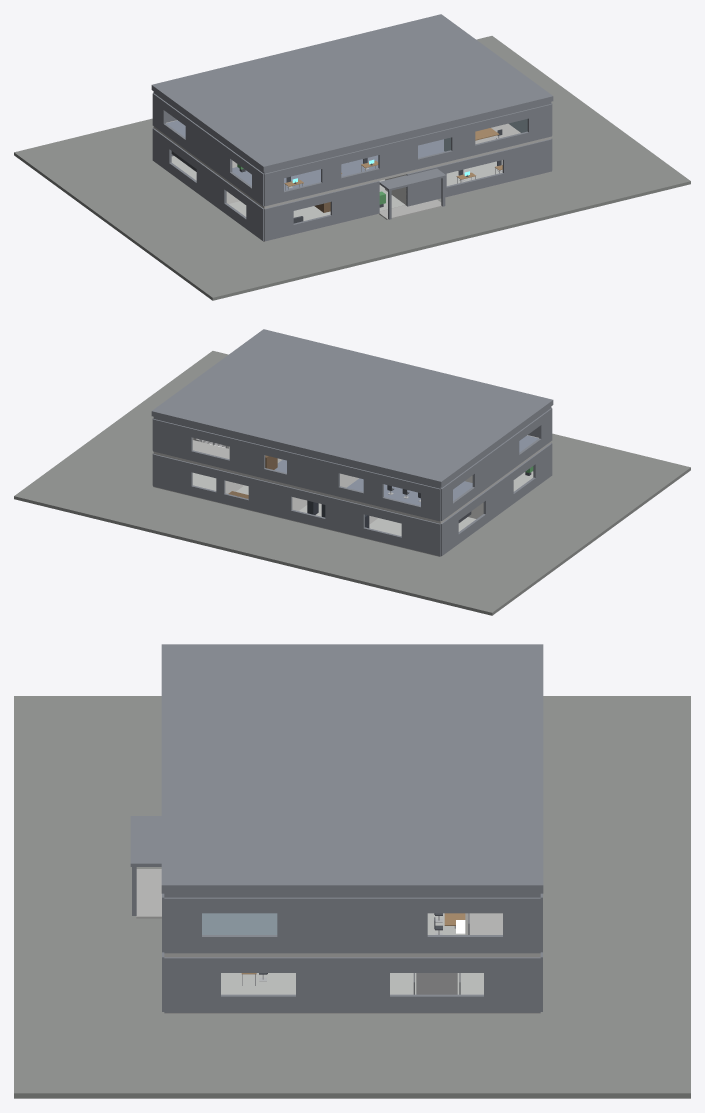
The model's file is office.glb.
3 views of the same model, one above another, from view 1: azimuth 30°, elevation 25°; view 2: azimuth 150°, elevation 25°; view 3: azimuth 270°, elevation 25° (orthographic). The views are drawn at different scales.
Visible parts, largest first — view 1: office; view 2: office; view 3: office.
Part boxes in pixels (bbox=[...]): office: bbox=[14, 14, 690, 300]; office: bbox=[14, 329, 690, 615]; office: bbox=[14, 644, 690, 1098].
Bounding box in the file's own units: 50 × 7.92 × 36.
